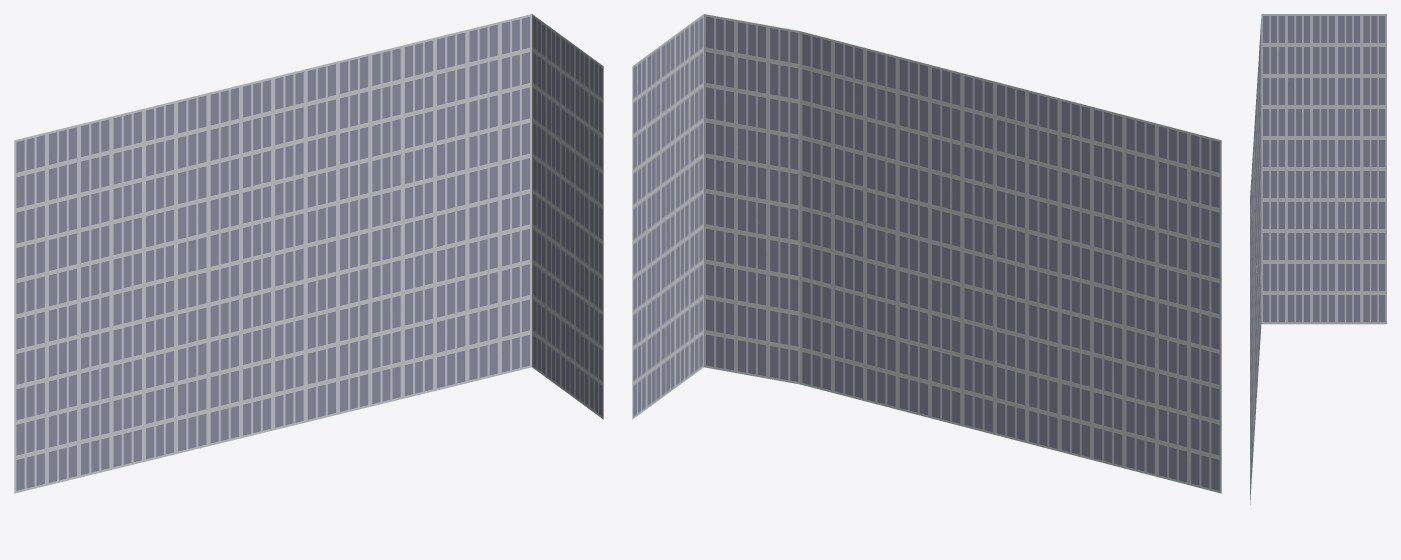
3 renders of one model, left to right at view 1: azimuth 30°, elevation 25°; view 2: azimuth 150°, elevation 25°; view 3: azimuth 270°, elevation 25°, orthographic. The views are drawn at different scales.
Size of the model in its own units: 46 by 30 by 12.
2 materials, 2 textured.
